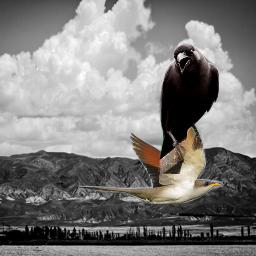Crow: (158, 43, 219, 174)
Cuckoo: (78, 103, 223, 204)
